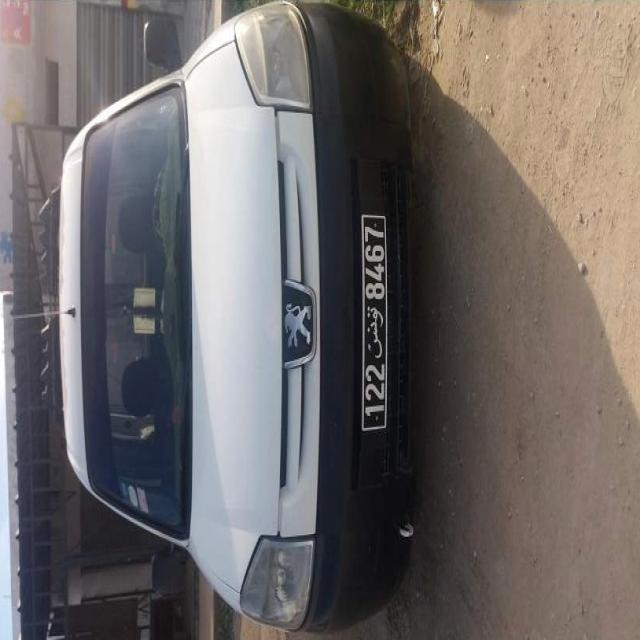licence plate: (363, 217, 386, 428)
